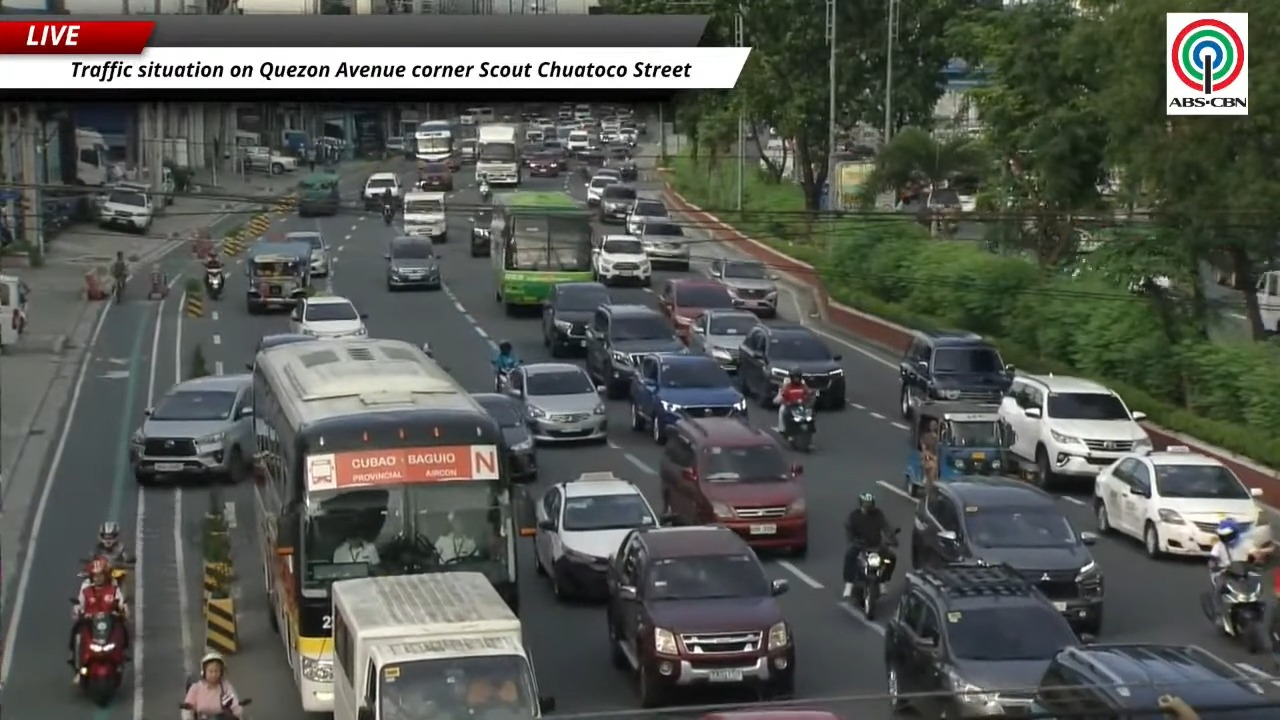bus: (252, 338, 532, 711), (490, 191, 591, 313), (414, 120, 454, 163)
car: (606, 525, 795, 707), (910, 476, 1104, 635), (884, 565, 1079, 717), (659, 417, 807, 555), (1028, 643, 1279, 719), (1094, 446, 1261, 557), (998, 375, 1152, 486), (534, 472, 658, 599), (130, 374, 255, 485), (630, 354, 746, 443), (899, 330, 1013, 418), (586, 304, 686, 398), (738, 324, 845, 409), (506, 362, 607, 442), (472, 393, 537, 481), (542, 282, 610, 357), (658, 278, 734, 341), (687, 309, 760, 372), (708, 258, 778, 316), (290, 295, 367, 338), (384, 236, 441, 290), (593, 235, 651, 286), (245, 333, 317, 371), (637, 219, 690, 270), (99, 185, 154, 233), (402, 191, 447, 242), (284, 231, 331, 278), (698, 707, 841, 719), (625, 197, 669, 235), (598, 182, 636, 223), (362, 172, 402, 209), (469, 206, 492, 256), (586, 174, 619, 207), (417, 163, 453, 191), (525, 150, 561, 177), (565, 127, 592, 156), (543, 141, 569, 171), (520, 140, 541, 167), (457, 138, 476, 164), (384, 136, 405, 157), (593, 167, 622, 182)
motorcycle: (1202, 561, 1267, 653), (74, 612, 125, 706), (850, 528, 899, 619), (782, 399, 815, 452), (178, 702, 235, 719), (204, 267, 224, 299), (494, 367, 513, 392), (478, 180, 491, 202), (382, 204, 394, 225), (421, 342, 433, 358)
truck: (331, 572, 553, 719), (476, 123, 521, 186), (75, 128, 109, 185)
